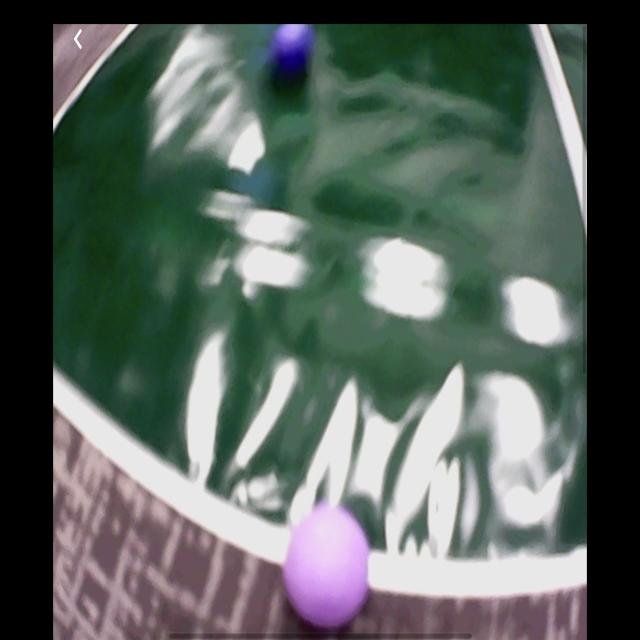ball: (285, 504, 371, 630), (271, 24, 317, 67)
